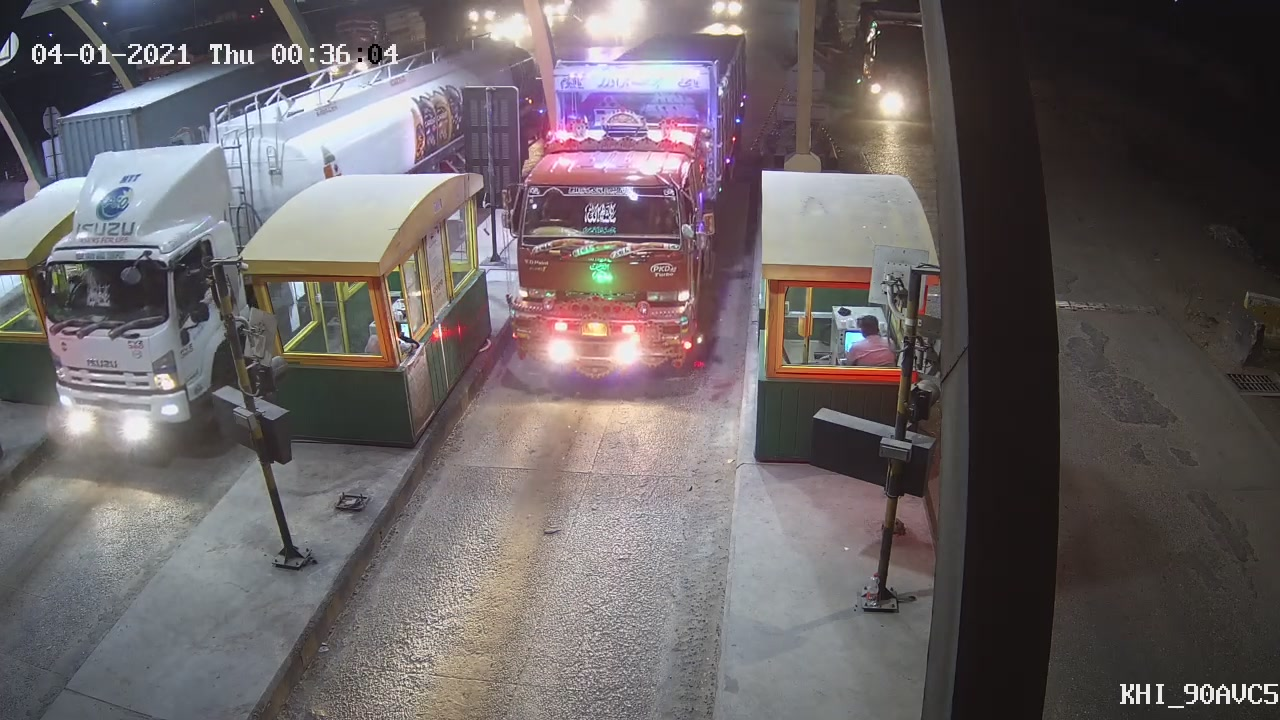F5: (499, 29, 754, 390)
